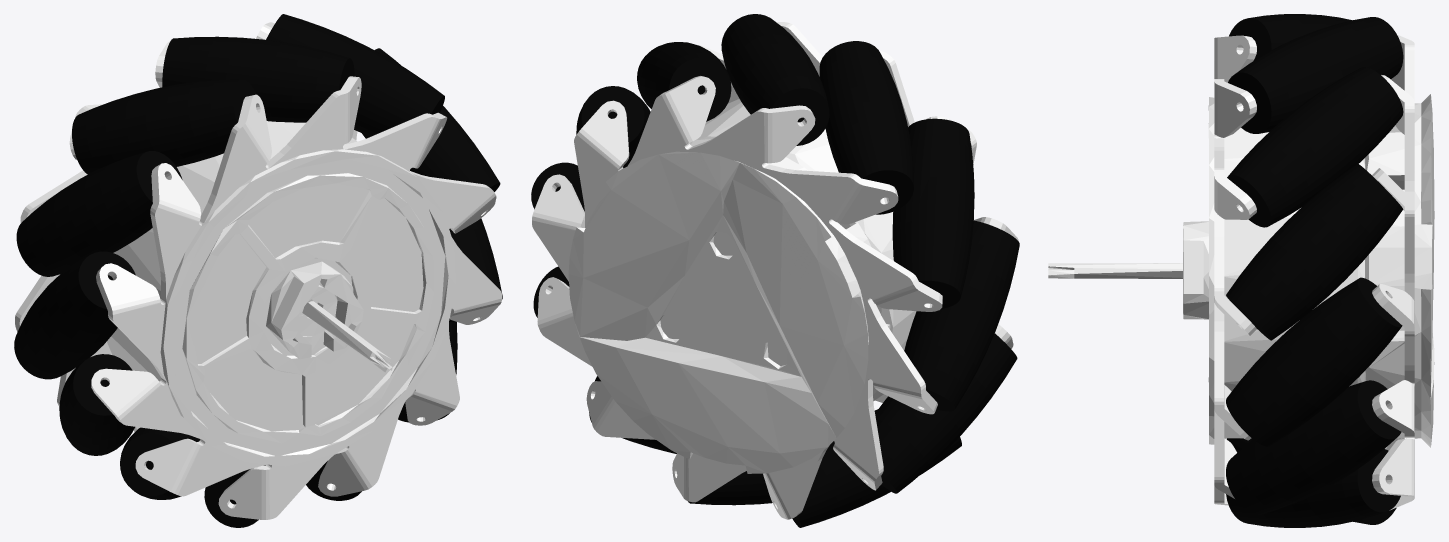
File: limo_optimal_wheels_omni.dae
The picture shows the model from 3 angles, left to right: view 1: azimuth 30°, elevation 25°; view 2: azimuth 150°, elevation 25°; view 3: azimuth 270°, elevation 25°; orthographic projection. The views are drawn at different scales.
Visible parts, largest first — view 1: wheelshaft, mecawheelB__rollers_, mecawheelB__llantas__1_; view 2: wheelcover, mecawheelB__rollers_, mecawheelB__llantas__1_, wheelshaft; view 3: mecawheelB__rollers_, mecawheelB__llantas__1_, wheelshaft, wheelcover.
Boxes of the visible parts, <box> form: wheelshaft: <box>107,121,456,466</box>; mecawheelB__rollers_: <box>14,14,502,527</box>; mecawheelB__llantas__1_: <box>15,22,501,519</box>; wheelcover: <box>568,139,890,473</box>; mecawheelB__rollers_: <box>531,14,1019,527</box>; mecawheelB__llantas__1_: <box>532,22,1018,519</box>; wheelshaft: <box>695,99,916,401</box>; mecawheelB__rollers_: <box>1226,14,1403,527</box>; mecawheelB__llantas__1_: <box>1214,34,1414,510</box>; wheelshaft: <box>1048,97,1365,444</box>; wheelcover: <box>1365,94,1434,447</box>.
Size of the model in its own units: 0.0995 by 0.0747 by 0.0995.
Materials: 4 (4 with a texture image).
